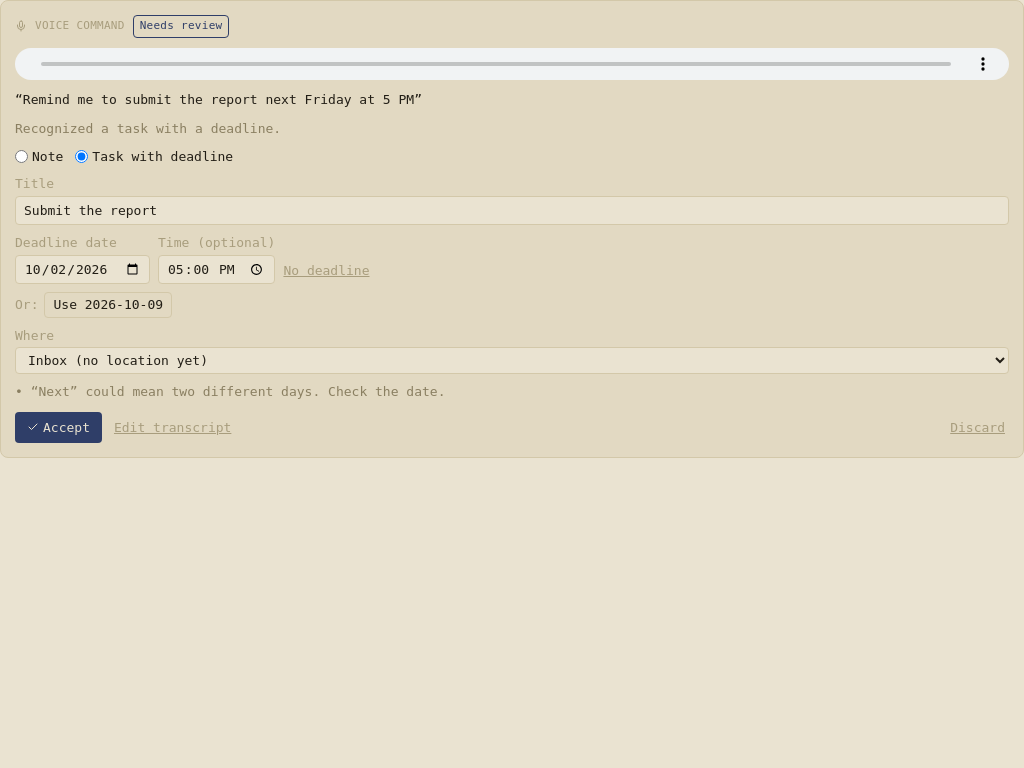
Test: review of a create proposal › asks before adding an overdue deadline and only then resends with confirmation
Click the button "Accept": coordinates (58, 427) [15,412,102,443]
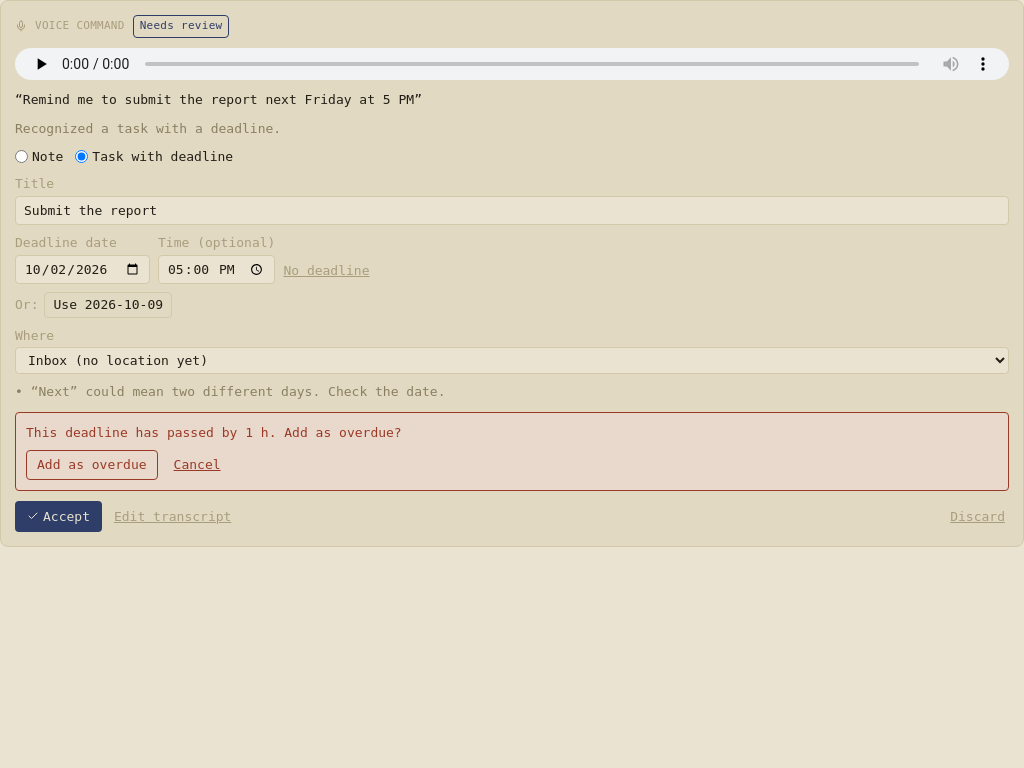
Expected: the dialog named "Overdue deadline" shows "This deadline has passed by 1 h. Add as overdue?", [15,412,1009,491]
Click the button "Add as overdue": coordinates (92, 465) [26,450,158,480]
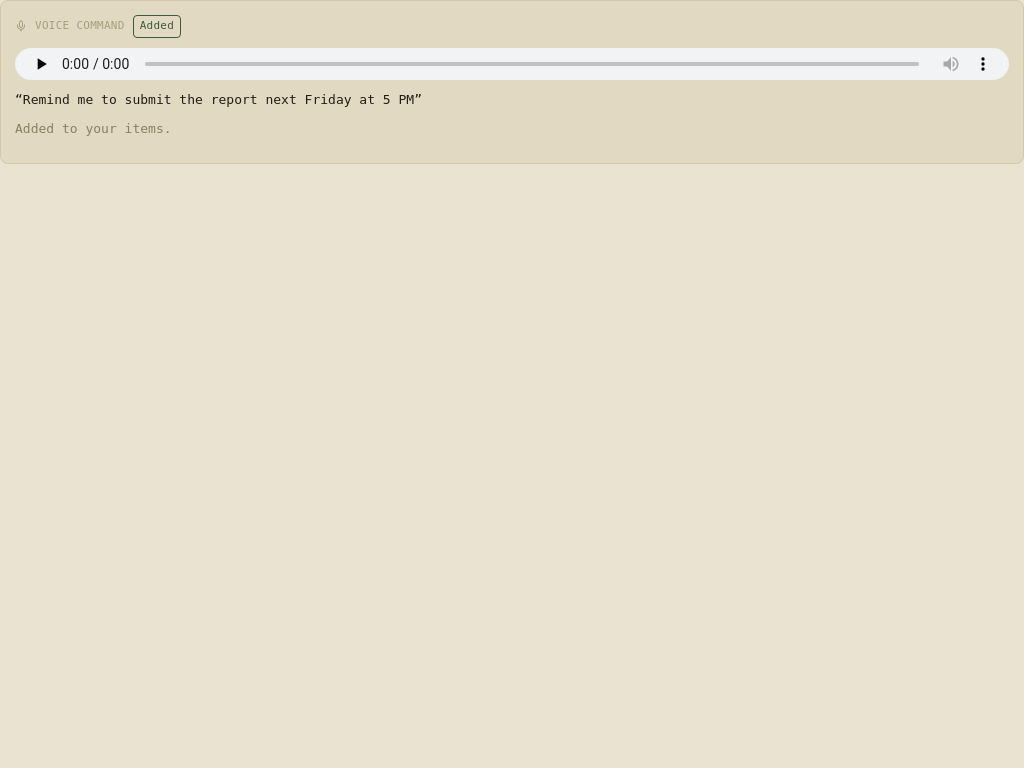
Expected: the dialog is gone
